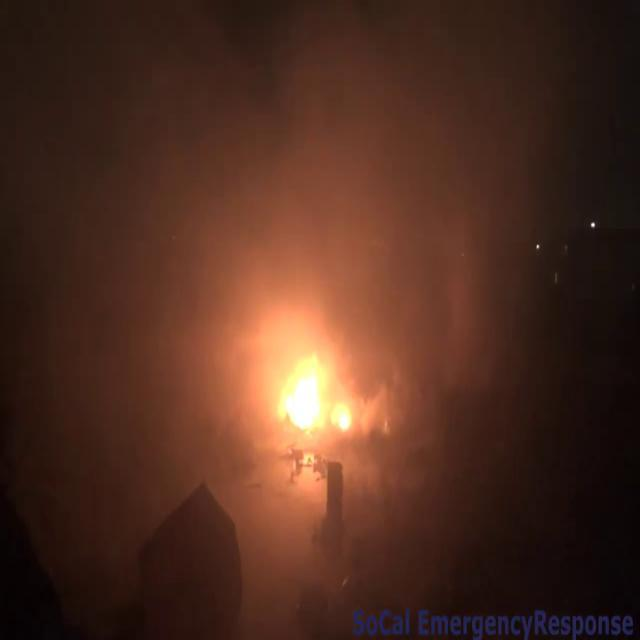Fire: (269, 339, 367, 449)
